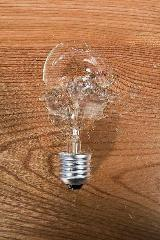lightbulb: (42, 40, 114, 190), (58, 131, 92, 189)
